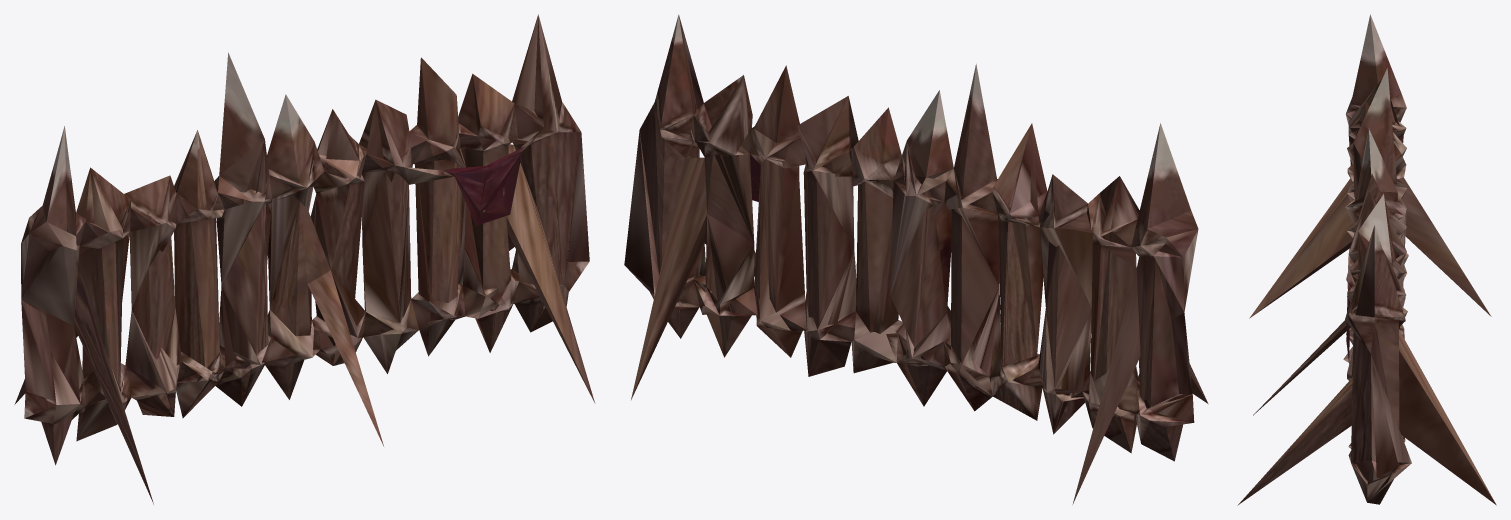
The model's file is oc_palisade.glb.
3 views of the same model, side by side, from view 1: azimuth 30°, elevation 25°; view 2: azimuth 150°, elevation 25°; view 3: azimuth 270°, elevation 25° (orthographic). The views are drawn at different scales.
Parts seen in each view (by area): view 1: W_bandit_palisade; view 2: W_bandit_palisade; view 3: W_bandit_palisade.
Boxes of the visible parts, <box> form: W_bandit_palisade: <box>14,14,595,504</box>; W_bandit_palisade: <box>624,14,1208,504</box>; W_bandit_palisade: <box>1237,14,1496,505</box>.
Bounding box in the file's own units: 3.89 × 2.36 × 1.75.
1 material, 1 textured.
